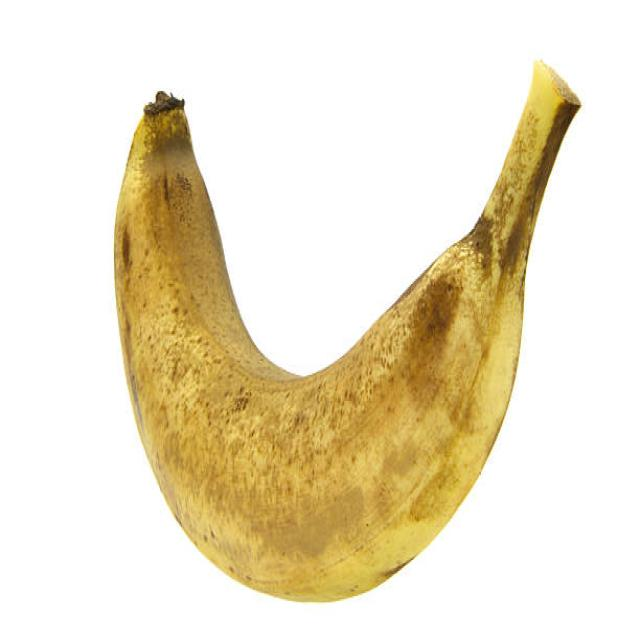overripe: (107, 56, 584, 608)
